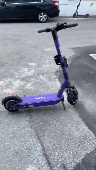beam: (3, 21, 80, 112)
